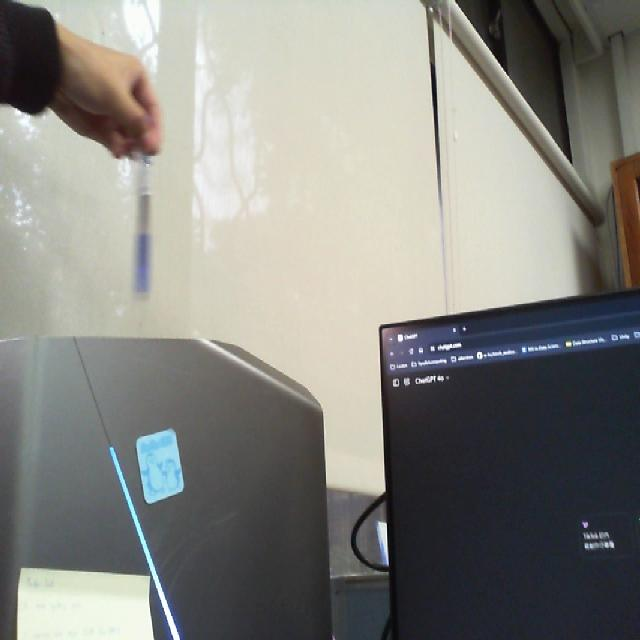Pen: (118, 83, 170, 342)
